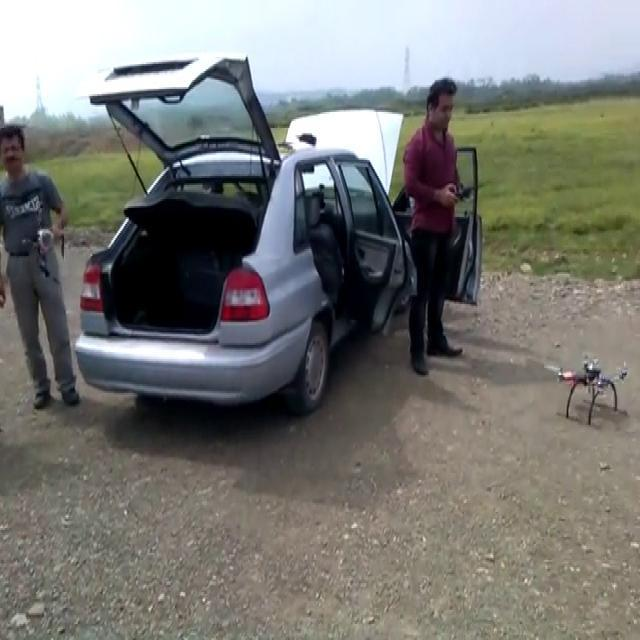drone: (547, 356, 630, 424)
